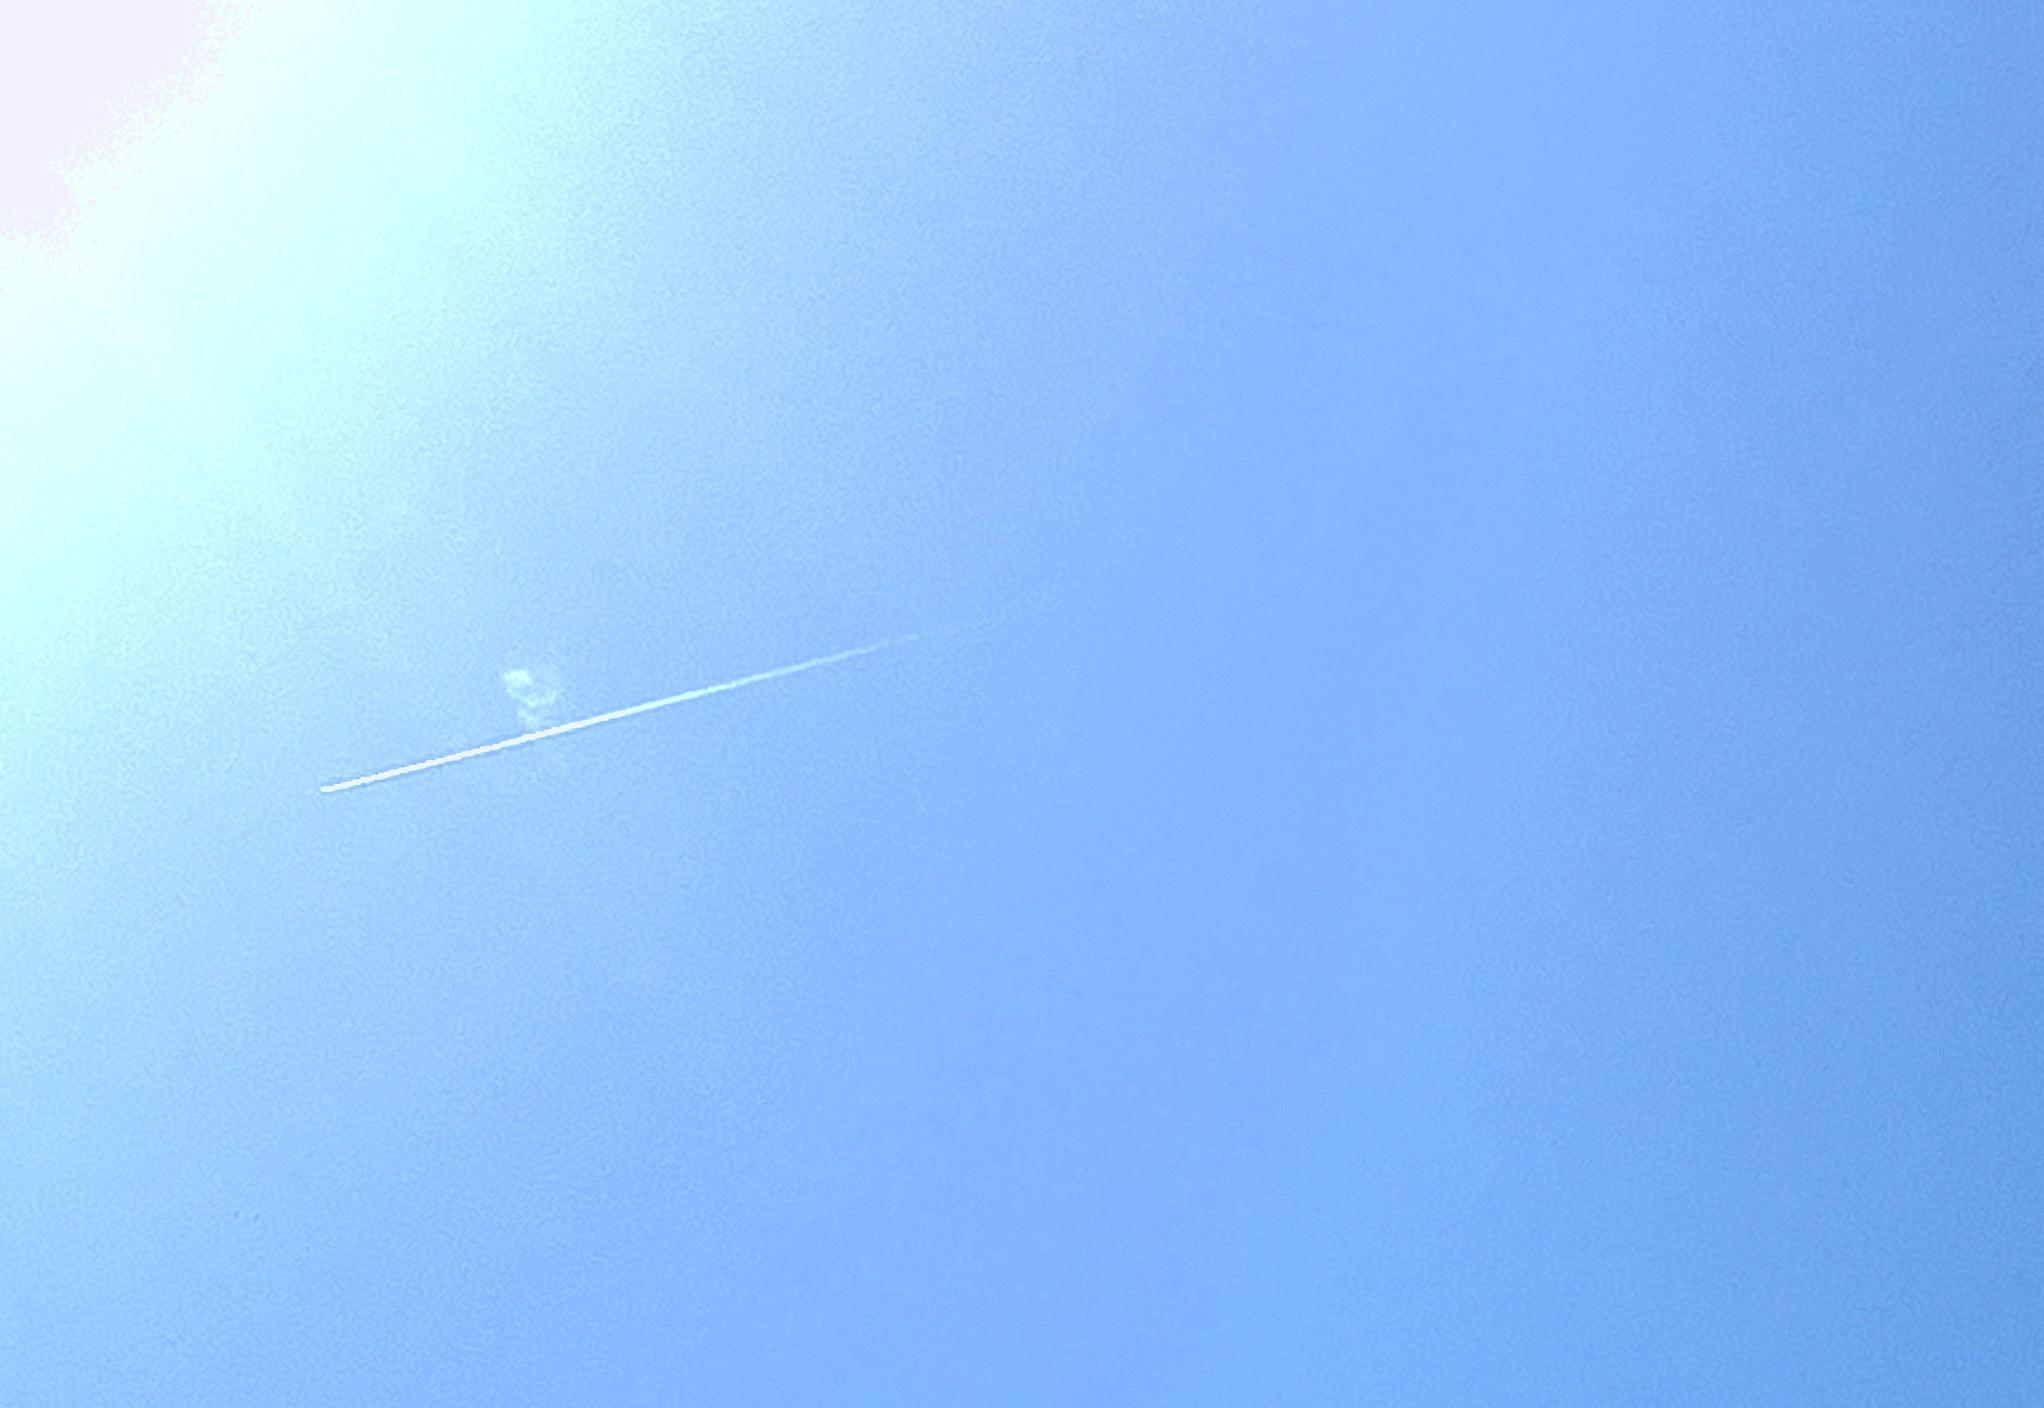Plane: (283, 626, 927, 823)
